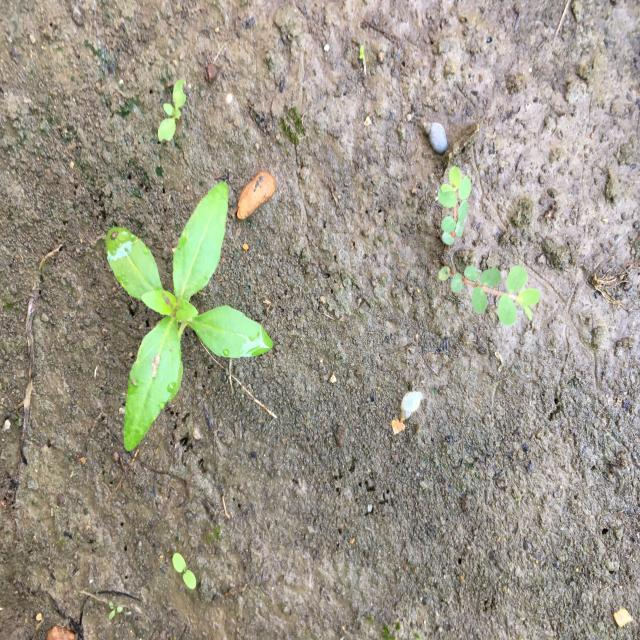Eclipta: (104, 180, 276, 455)
SpottedSpurge: (436, 163, 543, 328)
